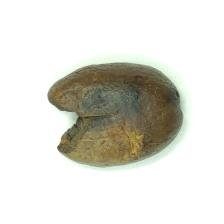NG: (47, 83, 148, 159)
